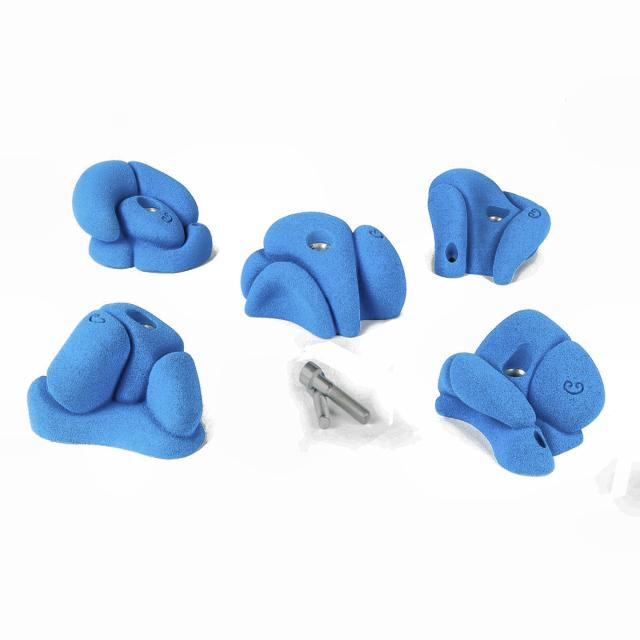Hold: (432, 311, 600, 480), (28, 311, 210, 460), (240, 212, 409, 333), (69, 159, 213, 270), (431, 176, 544, 277)
